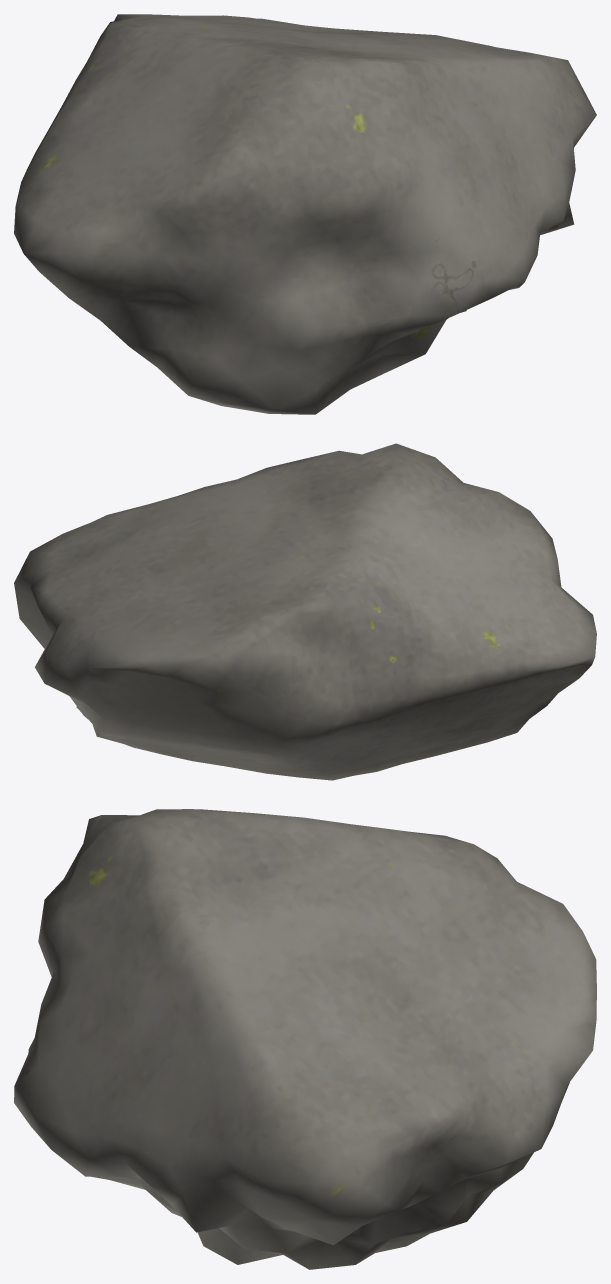
Rendered from boulder-lichen.glb.
3 views of the same model, one above another, from view 1: azimuth 30°, elevation 25°; view 2: azimuth 150°, elevation 25°; view 3: azimuth 270°, elevation 25° (orthographic). The views are drawn at different scales.
Parts seen in each view (by area): view 1: stone; view 2: stone; view 3: stone.
Boxes of the visible parts, left/top/right/bottom form: stone: left=14, top=14, right=596, bottom=414; stone: left=14, top=443, right=596, bottom=780; stone: left=14, top=809, right=596, bottom=1269.
Bounding box in the file's own units: 1.33 × 0.6667 × 1.01.
1 material, 1 textured.
